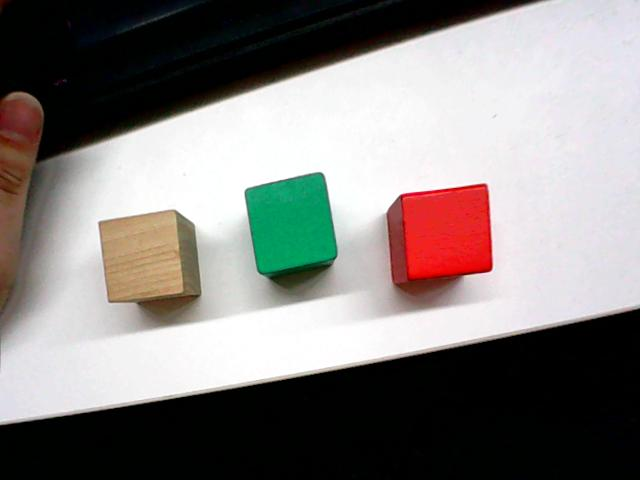green_box: (241, 168, 340, 280)
raw_box: (95, 206, 203, 305)
red_box: (383, 179, 496, 287)
